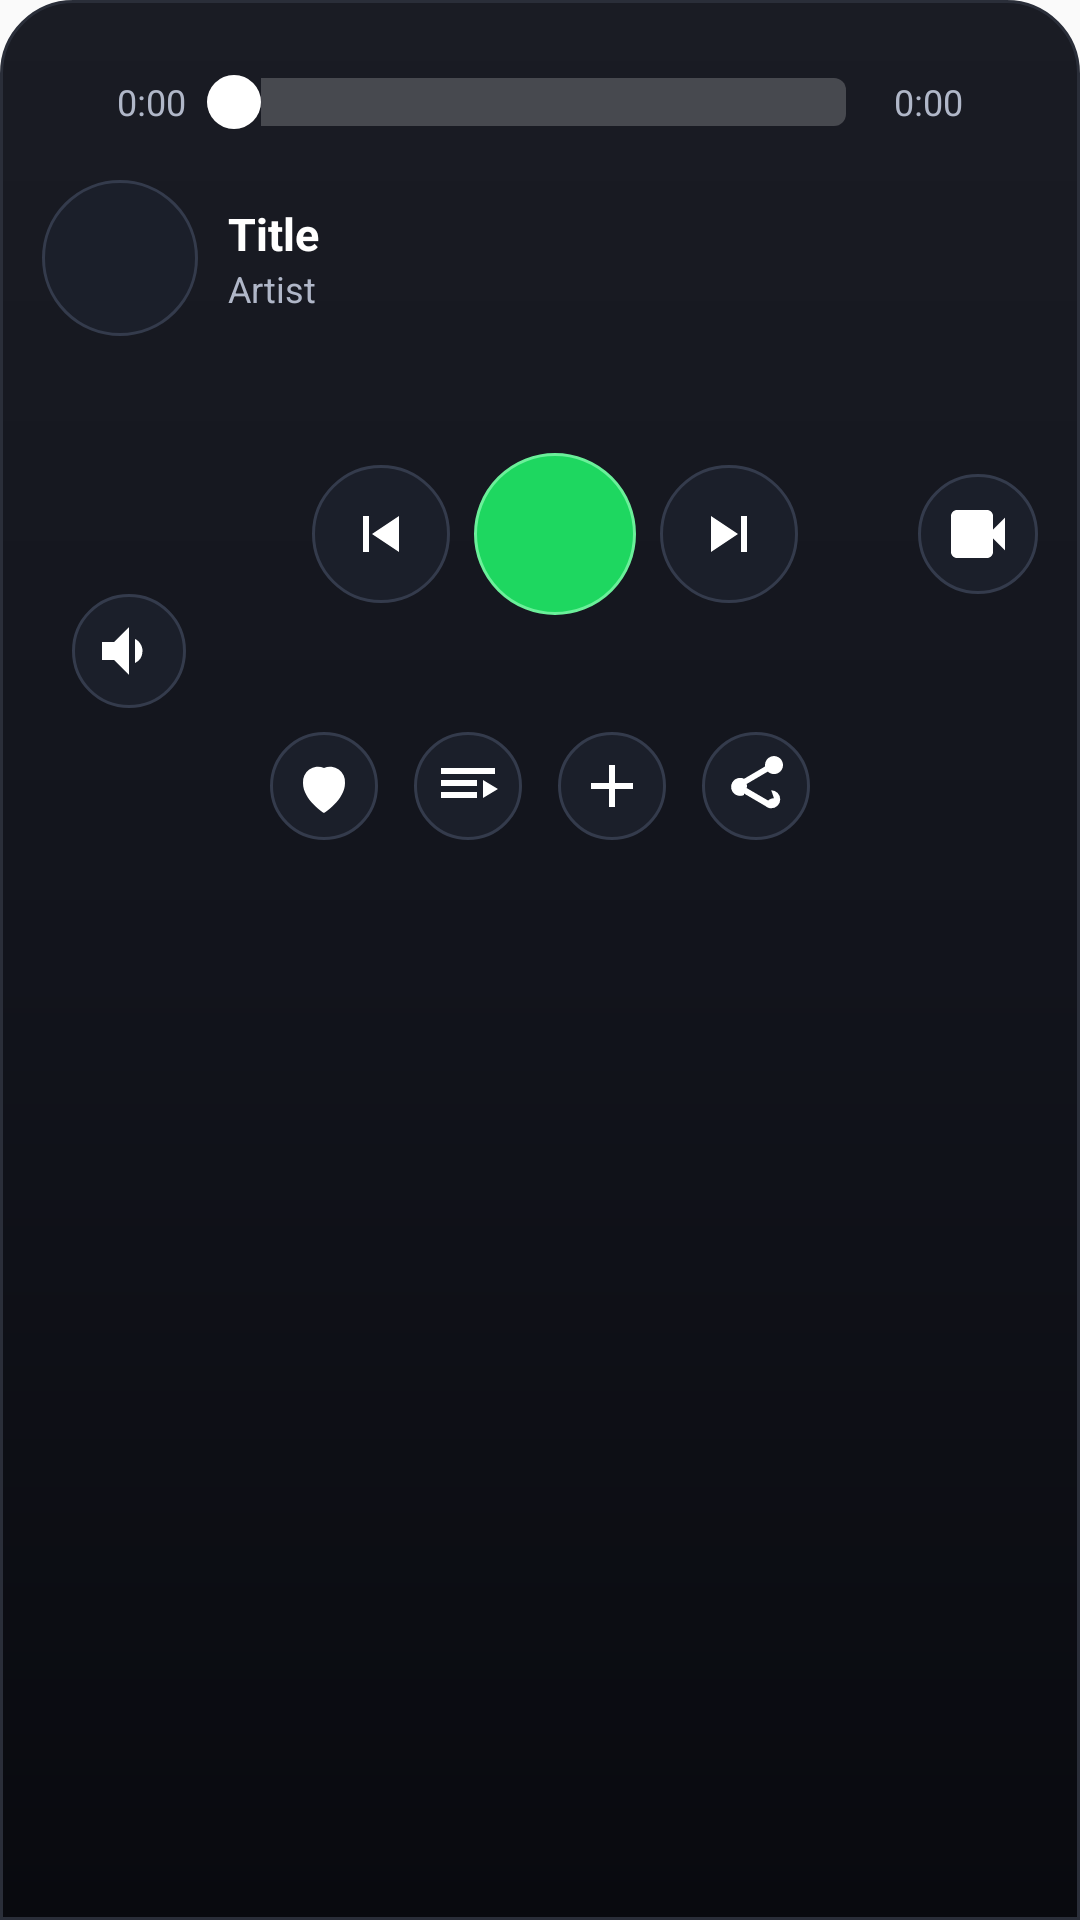

Point at icon controls on the screen. Image size 1080 × 1920, points as (x,y).
Add: (612,786)
Like: (324,786)
Next: (729,534)
Previous: (381,534)
Queue: (468,786)
Share: (756,786)
Volume: (129,651)
